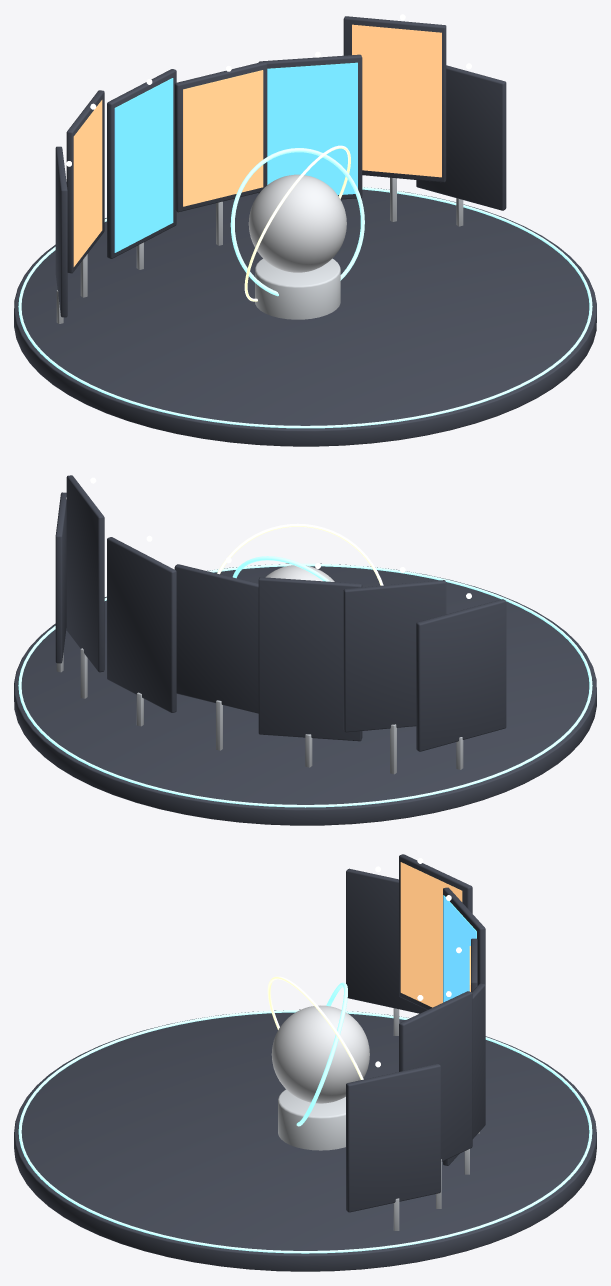
File: gallery.glb
3 views of the same model, one above another, from view 1: azimuth 30°, elevation 25°; view 2: azimuth 150°, elevation 25°; view 3: azimuth 270°, elevation 25° (orthographic).
Visible parts, largest first — view 1: gallery_Graphite, gallery_Screen2, gallery_Screen, gallery_Chrome, gallery_Hull, gallery_Cyan, spin_SculptRing, gallery_Steel, spin_SculptRing2; view 2: gallery_Graphite, gallery_Cyan, gallery_Steel, spin_SculptRing2, gallery_Chrome, spin_SculptRing; view 3: gallery_Graphite, gallery_Chrome, gallery_Screen2, gallery_Cyan, gallery_Hull, gallery_Screen, spin_SculptRing, gallery_Steel, spin_SculptRing2.
Boxes of the visible parts, x1,y1,x2,y2 form: gallery_Graphite: (14,16,596,446); gallery_Screen2: (73,24,441,266); gallery_Screen: (114,62,357,252); gallery_Chrome: (248,174,346,272); gallery_Hull: (255,258,340,319); gallery_Cyan: (18,187,592,428); spin_SculptRing: (230,148,364,296); gallery_Steel: (56,177,463,323); spin_SculptRing2: (244,145,350,301); gallery_Graphite: (14,475,596,825); gallery_Cyan: (18,563,592,807); gallery_Steel: (56,648,463,774); spin_SculptRing2: (217,523,383,585); gallery_Chrome: (265,565,334,581); spin_SculptRing: (232,556,330,581); gallery_Graphite: (14,854,596,1271); gallery_Chrome: (271,1005,369,1103); gallery_Screen2: (400,862,470,1007); gallery_Cyan: (18,1010,592,1253); gallery_Hull: (278,1089,345,1150); gallery_Screen: (443,895,476,1002); spin_SculptRing: (296,982,347,1126); gallery_Steel: (393,1008,479,1230); spin_SculptRing2: (267,976,363,1079).
Size of the model in its own units: 19 by 8.25 by 19.
